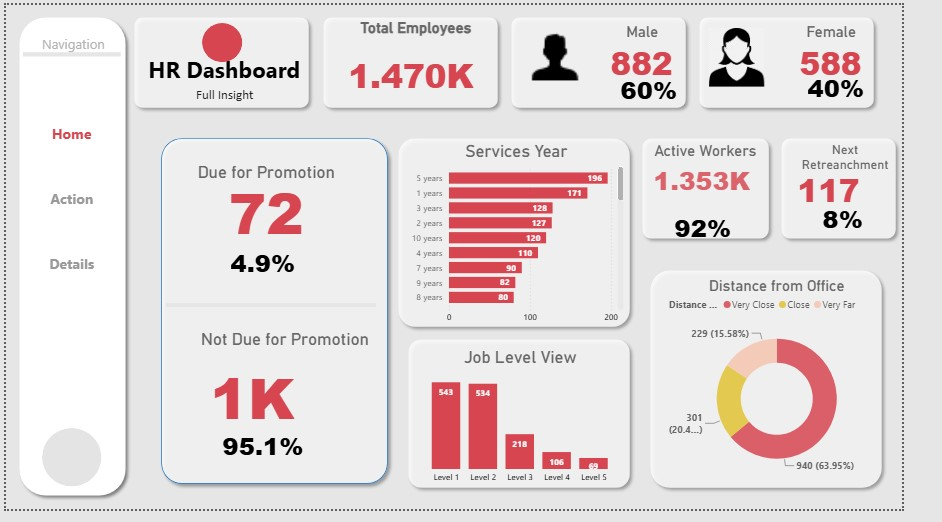

Layout of this report page (visuals, bound fields, positions):
{"tool":"powerbi","page":{"name":"Home","canvas":[1280,720],"ordinal":0},"visuals":[{"type":"shape","box":[174.8,8.6,267.1,147.1],"z":0},{"type":"shape","box":[443.7,8.6,267.1,147.1],"z":1000},{"type":"shape","box":[712.5,8.6,267.1,147.1],"z":2000},{"type":"shape","box":[981.4,8.6,267.1,147.1],"z":3000},{"type":"shape","box":[202.5,181.4,351.4,511.4],"z":4000},{"type":"shape","box":[551.4,181.4,348.6,287.1],"z":5000},{"type":"shape","box":[565.7,468.6,334.3,230],"z":6000},{"type":"shape","box":[900,181.4,198.7,161.3],"z":7000},{"type":"shape","box":[1098.7,181.4,181.4,161.3],"z":8000},{"type":"shape","box":[911.4,370,348.6,328.6],"z":9000},{"type":"textbox","box":[180.7,64.3,264.3,54.3],"z":10000},{"type":"textbox","box":[9.5,33.1,169.5,35.5],"z":11000},{"type":"shape","box":[279.5,25,57.6,55.9],"z":12000},{"type":"cardVisual","title":"Total Employees","fields":{"Data":["All Measures.Total Empp"]},"box":[460,20,251.4,121.4],"z":13000},{"type":"cardVisual","title":"Male","fields":{"Data":["All Measures.Male"]},"box":[845.7,25.7,121.4,92.9],"z":14000},{"type":"cardVisual","title":"Female","fields":{"Data":["All Measures.Female"]},"box":[1115.7,25.7,121.4,92.9],"z":15000},{"type":"columnChart","title":"Job Level View","fields":{"Y":["All Measures.Total Emp"],"Category":["HR Analytics Data.Job Levels"]},"box":[577.1,490,310,202.9],"z":16000},{"type":"cardVisual","title":"Male","fields":{"Data":["All Measures.% Female"]},"box":[1127.1,72.9,121.4,92.9],"z":17000},{"type":"image","box":[736.3,26.2,95,90.8],"z":18000},{"type":"image","box":[1004.7,33,79.8,84],"z":19000},{"type":"cardVisual","title":"Due for Promotion","fields":{"Data":["All Measures.Due for promotion"]},"box":[247.1,225.7,244.3,117.1],"z":20000},{"type":"cardVisual","title":" Not Due for Promotion","fields":{"Data":["All Measures.Not due for promotion"]},"box":[265,463.7,263.5,167],"z":21000},{"type":"cardVisual","title":"Male","fields":{"Data":["All Measures.% Due for promotion"]},"box":[302.9,322.9,172.9,92.9],"z":22000},{"type":"cardVisual","title":"Male","fields":{"Data":["All Measures.% Not due for promotion"]},"box":[291.4,584.3,172.9,92.9],"z":23000},{"type":"shape","box":[228.6,388.6,300,80],"z":24000},{"type":"barChart","title":"Services Year","fields":{"Category":["HR Analytics Data.Services Year"],"Y":["All Measures.Total Emp"]},"box":[565.7,195.7,321.4,268.6],"z":25000},{"type":"cardVisual","title":"Active Workers","fields":{"Data":["All Measures.on service"]},"box":[907.2,195.8,178.6,87.8],"z":26000},{"type":"cardVisual","title":"Male","fields":{"Data":["All Measures.% Retained"]},"box":[937.4,277.9,132.5,82.1],"z":27000},{"type":"cardVisual","title":" Next Retreanchment","fields":{"Data":["All Measures.layoff"]},"box":[1113.1,195.8,167,99.4],"z":28000},{"type":"cardVisual","title":"Male","fields":{"Data":["All Measures.% layoff"]},"box":[1148.6,262.9,111.4,88.6],"z":29000},{"type":"cardVisual","title":"Male","fields":{"Data":["All Measures.% Male"]},"box":[860,75.7,121.4,92.9],"z":30000},{"type":"shape","box":[10.1,8.6,169.9,701.3],"z":31000},{"type":"donutChart","title":" Distance from Office","fields":{"Category":["HR Analytics Data.Distance Status"],"Y":["All Measures.Total Emp"]},"box":[937.1,388.6,322.9,300],"z":32000},{"type":"shape","box":[51.8,604.8,85,83.5],"z":33000},{"type":"shape","box":[24.6,64.2,139.6,12.7],"z":34000},{"type":"textbox","box":[203.2,111.4,219.1,54.3],"z":35000},{"type":"pageNavigator","box":[24.5,141.1,139.7,269.3],"z":36000},{"type":"textbox","box":[11.7,37.2,169.5,35.5],"z":37000}]}

Visuals, with their boxes in screenshot pixels (x1, y1, x2, y2), scaled from the page's 1280x720 canvas onto the 942x522 screenshot:
shape: rect(129, 6, 325, 113)
shape: rect(327, 6, 523, 113)
shape: rect(524, 6, 721, 113)
shape: rect(722, 6, 919, 113)
shape: rect(149, 132, 408, 502)
shape: rect(406, 132, 662, 340)
shape: rect(416, 340, 662, 506)
shape: rect(662, 132, 809, 248)
shape: rect(809, 132, 941, 248)
shape: rect(671, 268, 927, 506)
textbox: rect(133, 47, 327, 86)
textbox: rect(7, 24, 132, 50)
shape: rect(206, 18, 248, 59)
"Total Employees" cardVisual: rect(339, 14, 524, 103)
"Male" cardVisual: rect(622, 19, 712, 86)
"Female" cardVisual: rect(821, 19, 910, 86)
"Job Level View" columnChart: rect(425, 355, 653, 502)
"Male" cardVisual: rect(829, 53, 919, 120)
image: rect(542, 19, 612, 85)
image: rect(739, 24, 798, 85)
"Due for Promotion" cardVisual: rect(182, 164, 362, 249)
" Not Due for Promotion" cardVisual: rect(195, 336, 389, 457)
"Male" cardVisual: rect(223, 234, 350, 301)
"Male" cardVisual: rect(214, 424, 342, 491)
shape: rect(168, 282, 389, 340)
"Services Year" barChart: rect(416, 142, 653, 337)
"Active Workers" cardVisual: rect(668, 142, 799, 206)
"Male" cardVisual: rect(690, 201, 787, 261)
" Next Retreanchment" cardVisual: rect(819, 142, 941, 214)
"Male" cardVisual: rect(845, 191, 927, 255)
"Male" cardVisual: rect(633, 55, 722, 122)
shape: rect(7, 6, 132, 515)
" Distance from Office" donutChart: rect(690, 282, 927, 499)
shape: rect(38, 438, 101, 499)
shape: rect(18, 47, 121, 56)
textbox: rect(150, 81, 311, 120)
pageNavigator: rect(18, 102, 121, 298)
textbox: rect(9, 27, 133, 53)
